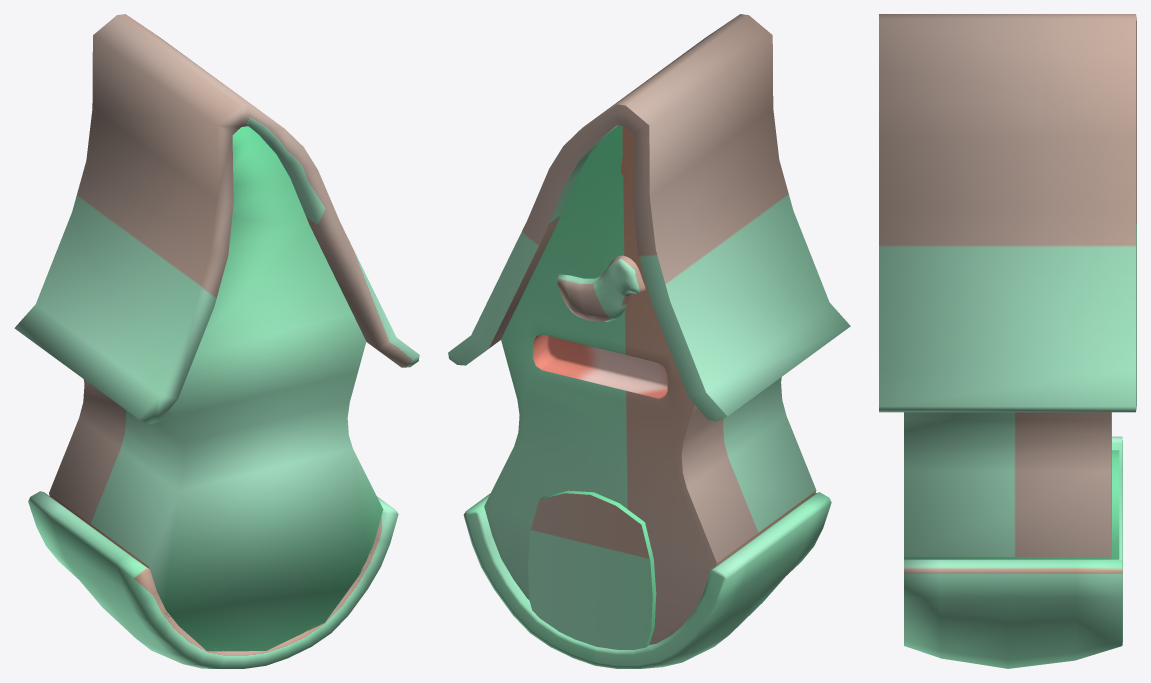
Rendered from MailboxD_yellow.fbx.
The picture shows the model from 3 angles, left to right: view 1: azimuth 30°, elevation 25°; view 2: azimuth 150°, elevation 25°; view 3: azimuth 270°, elevation 25°; orthographic projection. The views are drawn at different scales.
Parts seen in each view (by area): view 1: MailboxD_base.002, MailboxD_roof.002; view 2: MailboxD_roof.002, MailboxD_base.002, MailboxD_birdie.002; view 3: MailboxD_roof.002, MailboxD_base.002.
Boxes of the visible parts, <box> form: MailboxD_base.002: <box>49,126,383,651</box>; MailboxD_roof.002: <box>14,14,419,668</box>; MailboxD_roof.002: <box>448,14,850,668</box>; MailboxD_base.002: <box>484,125,816,644</box>; MailboxD_birdie.002: <box>557,255,645,321</box>; MailboxD_roof.002: <box>879,14,1136,668</box>; MailboxD_base.002: <box>904,412,1111,559</box>.
Bounding box in the file's own units: 120 × 245 × 92.07.
